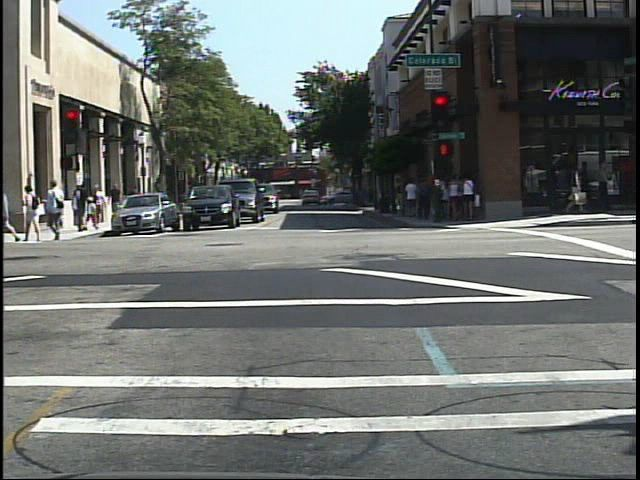person: (46, 175, 69, 244), (21, 183, 45, 244), (5, 175, 6, 247)
